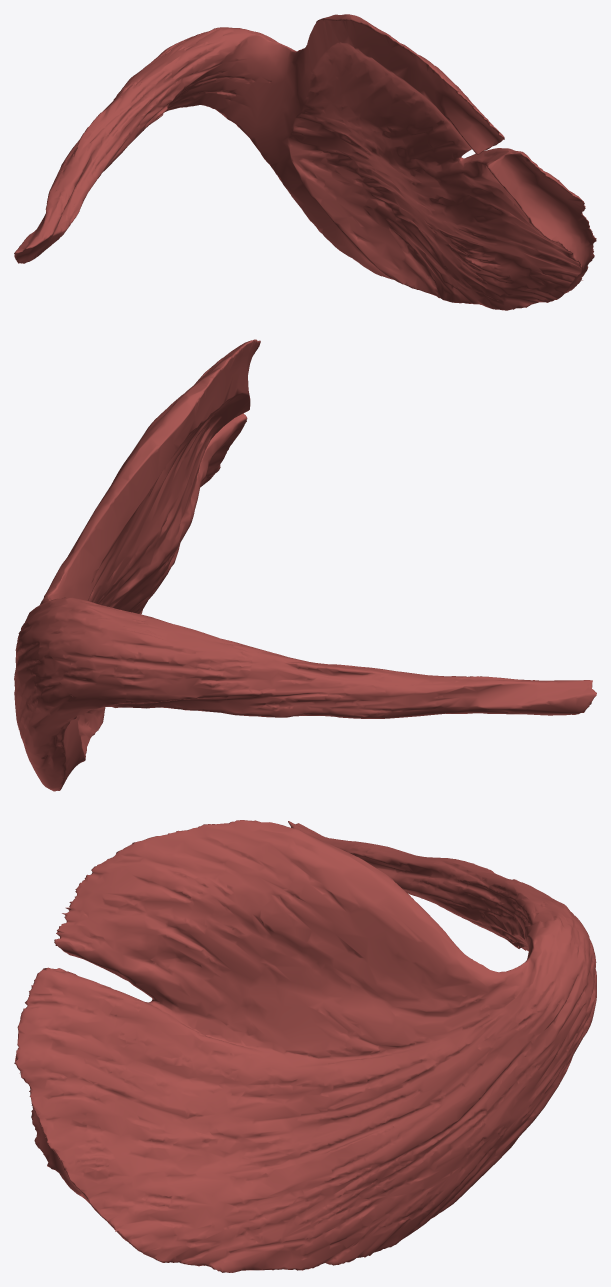
File: FMA22324.glb
The picture shows the model from 3 angles, top to bottom: view 1: azimuth 30°, elevation 25°; view 2: azimuth 150°, elevation 25°; view 3: azimuth 270°, elevation 25°; orthographic projection. The views are drawn at different scales.
Parts seen in each view (by area): view 1: FMA22324; view 2: FMA22324; view 3: FMA22324.
Boxes of the visible parts, <box> form: FMA22324: <box>14,14,596,310</box>; FMA22324: <box>14,339,596,791</box>; FMA22324: <box>14,820,596,1272</box>.
Bounding box in the file's own units: 0.0947 × 0.058 × 0.0791.
